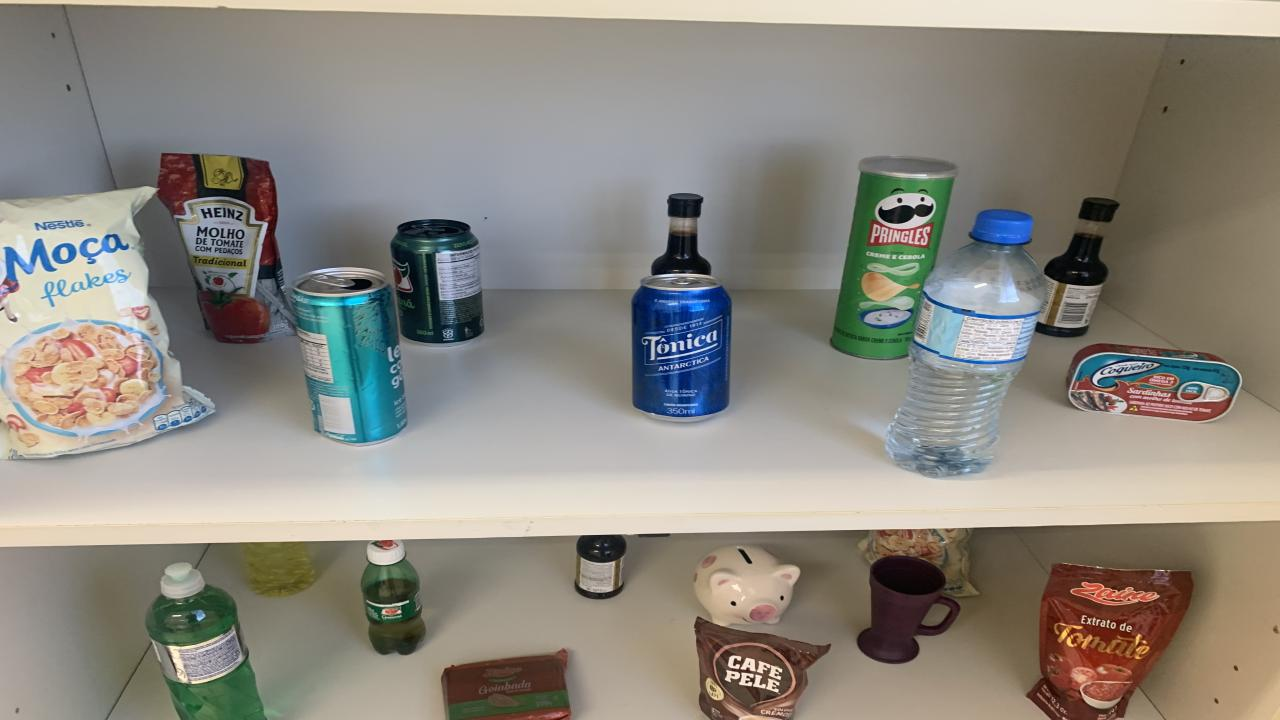Coffee-Pantry_Items: (695, 617, 830, 720)
Detergent-Cleanup_Items: (145, 562, 265, 720), (242, 542, 315, 596)
English_Sauce-Pantry_Items: (1038, 197, 1118, 338), (650, 193, 710, 276), (575, 534, 628, 600)
Flakes-Snacks: (0, 188, 215, 458), (858, 529, 978, 596)
Guarana-Drinks: (360, 540, 425, 654)
Guarana_Can-Drinks: (390, 219, 485, 347)
Guava-Snacks: (442, 649, 570, 718)
Pig_Safe-Miscellaneous: (695, 546, 800, 626)
Pringles-Snacks: (830, 156, 958, 358)
Tea-Drinks: (290, 268, 408, 444)
Tomato_Sauce-Pantry_Items: (158, 154, 295, 343), (1028, 564, 1192, 718)
Tonic-Drinks: (632, 274, 732, 422)
Tuna_Can-Pantry_Items: (1068, 345, 1242, 422)
Water_Bottle-Drinks: (885, 210, 1048, 478)
